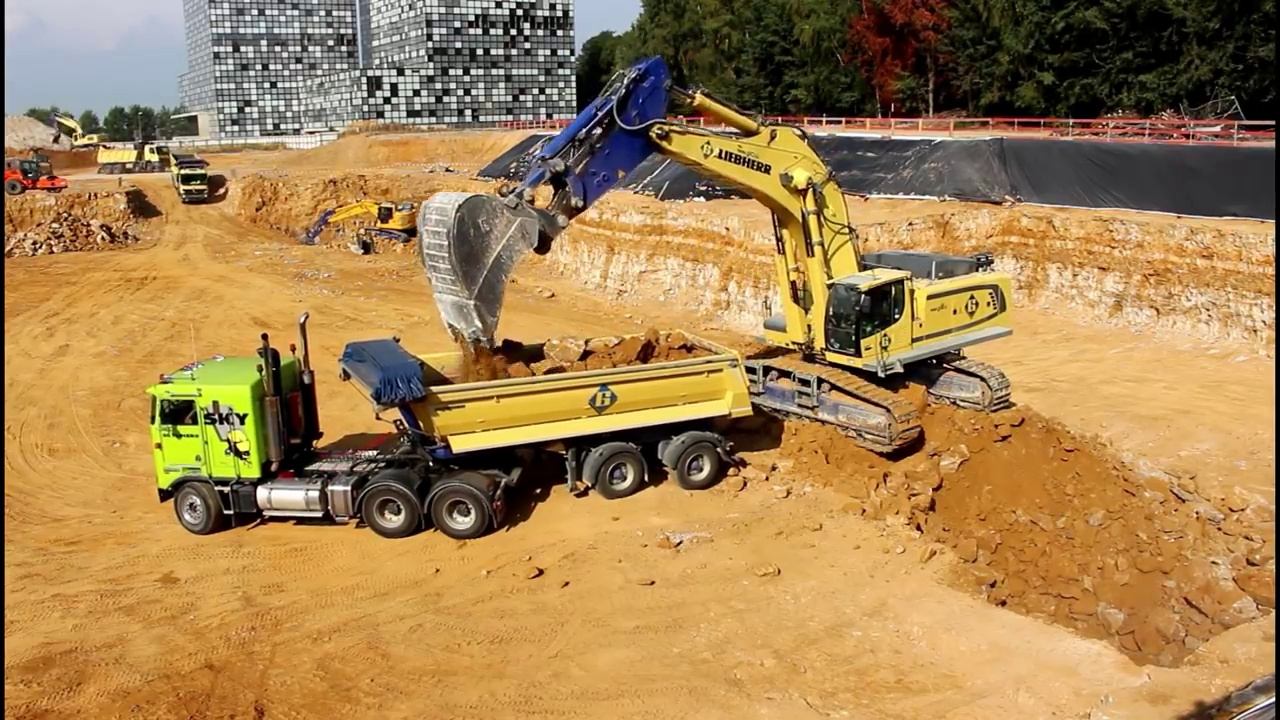compactor: (2, 157, 68, 199)
excavator: (416, 54, 1022, 462), (294, 195, 425, 259), (42, 110, 112, 158)
truck: (139, 307, 763, 545), (94, 136, 177, 182), (167, 148, 216, 206)
